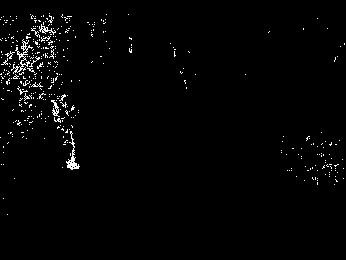person: (51, 93, 82, 170)
